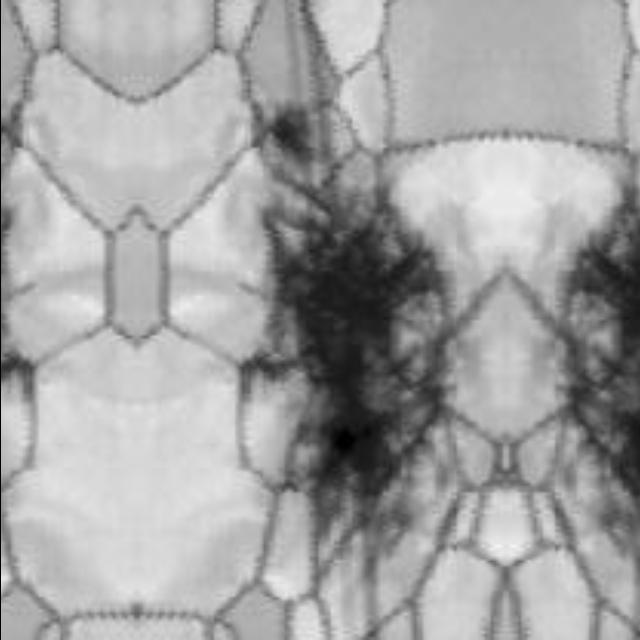good_void: (230, 104, 460, 552), (548, 204, 640, 552)
